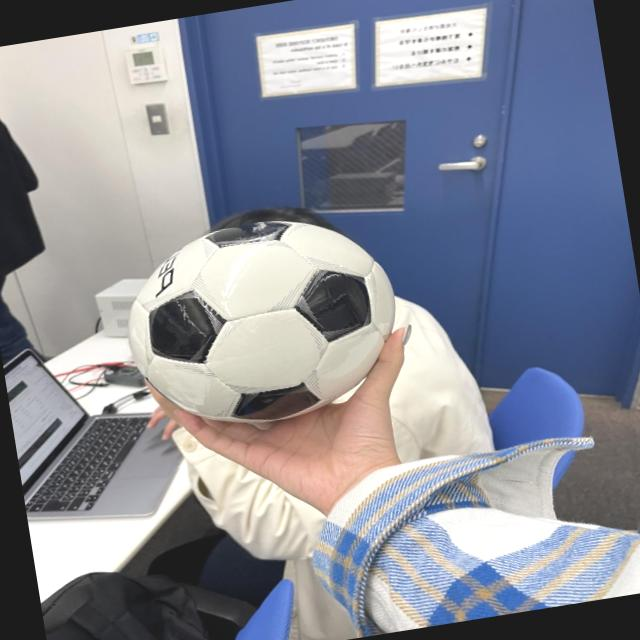Soccer Ball: (110, 198, 411, 443)
